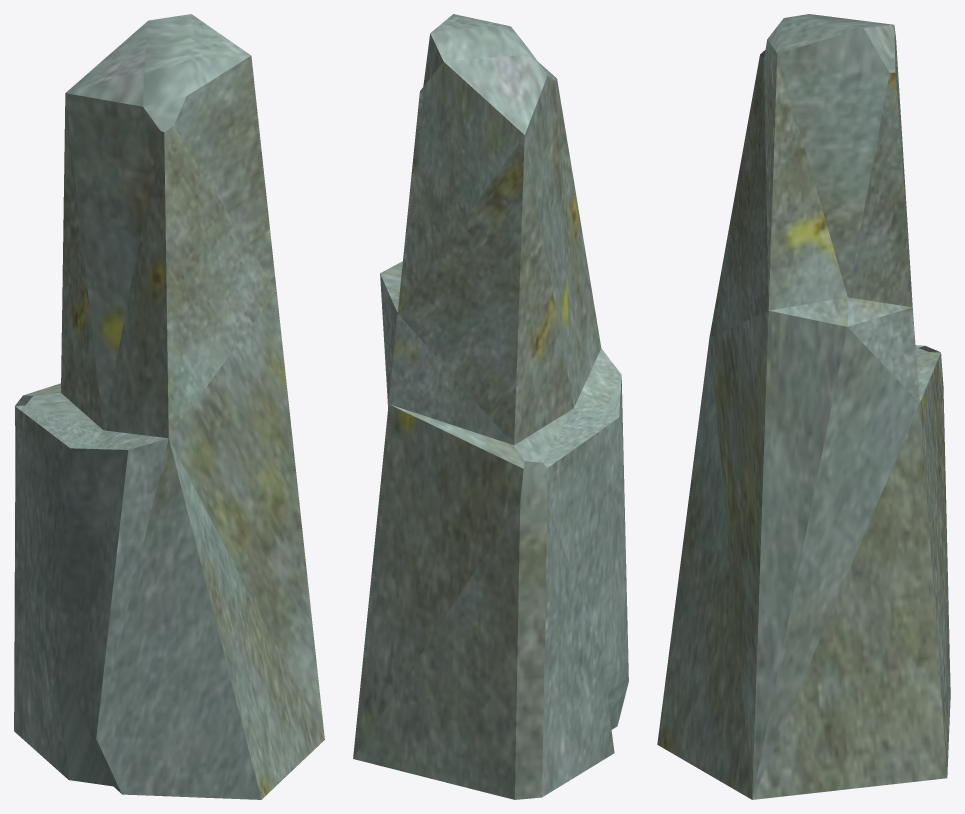
Rendered from Medium_Rock_T.FBX.
3 renders of one model, left to right at view 1: azimuth 30°, elevation 25°; view 2: azimuth 150°, elevation 25°; view 3: azimuth 270°, elevation 25°, orthographic. The views are drawn at different scales.
Visible parts, largest first — view 1: rock_l; view 2: rock_l; view 3: rock_l.
Boxes of the visible parts, x1=… form: rock_l: x1=14, y1=14, x2=324, y2=799; rock_l: x1=353, y1=14, x2=628, y2=799; rock_l: x1=657, y1=14, x2=950, y2=799.
Size of the model in its own units: 1.29 by 3.7 by 1.35.
Materials: 1 (1 with a texture image).
